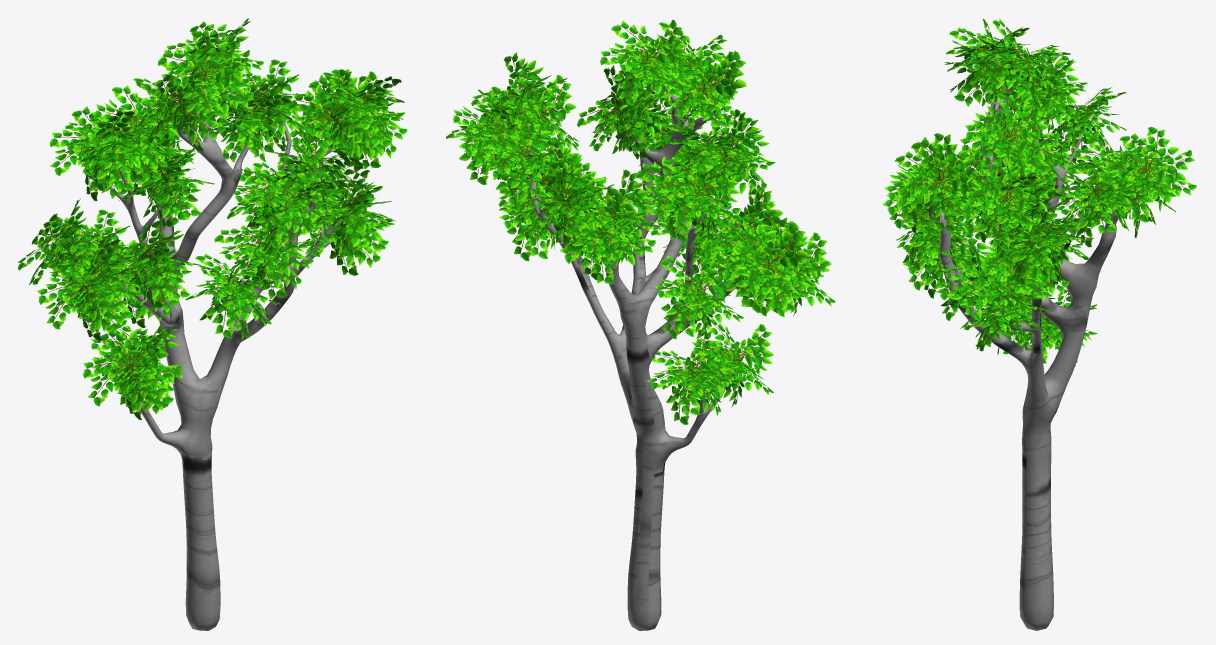
The model's file is BirchTree1.fbx.
3 renders of one model, left to right at view 1: azimuth 30°, elevation 25°; view 2: azimuth 150°, elevation 25°; view 3: azimuth 270°, elevation 25°, orthographic. The views are drawn at different scales.
Visible parts, largest first — view 1: Plane.001, Cube; view 2: Plane.001, Cube; view 3: Plane.001, Cube.
Part boxes in pixels (x1,y1,x2,y2): Plane.001: (18, 18, 407, 419); Cube: (75, 108, 364, 630); Plane.001: (446, 19, 835, 424); Cube: (517, 87, 752, 630); Plane.001: (882, 19, 1196, 366); Cube: (928, 60, 1137, 630).
Size of the model in its own units: 4.94 by 3.75 by 7.64.
2 materials, 2 textured.
